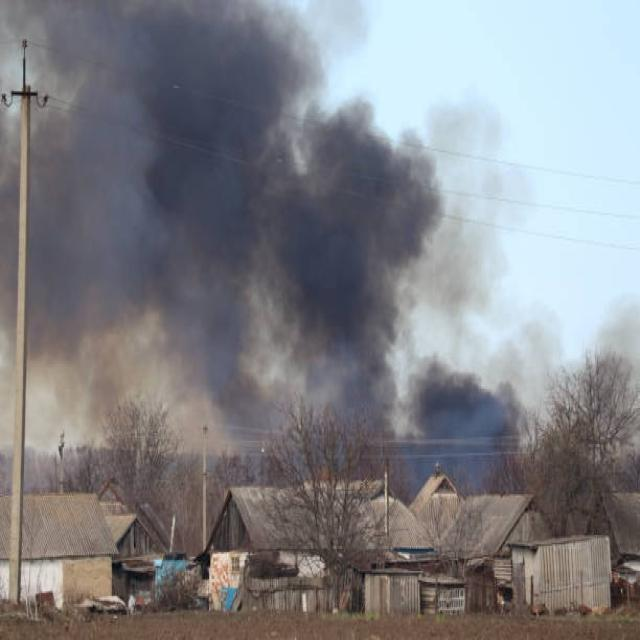Smoke: (27, 0, 444, 448), (401, 359, 523, 497)
